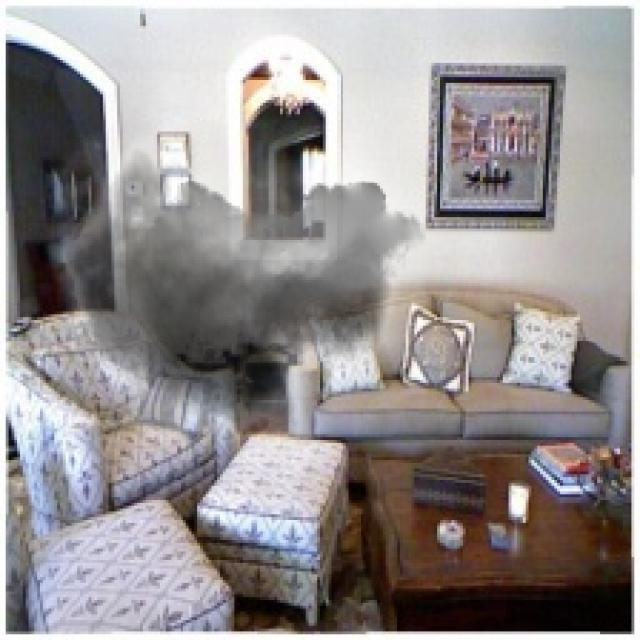Smoke: (31, 69, 426, 488)
